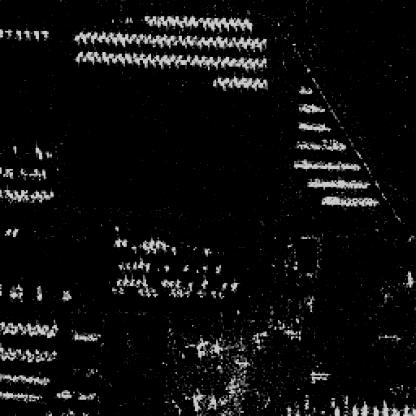airplane: (8, 289, 18, 299), (64, 289, 72, 301), (5, 27, 15, 36), (42, 150, 52, 158), (34, 291, 42, 301), (40, 27, 48, 36), (12, 228, 20, 237), (16, 28, 23, 38), (11, 143, 18, 153), (32, 30, 40, 38), (112, 239, 120, 247), (200, 278, 208, 286), (210, 288, 218, 296), (229, 280, 237, 288), (24, 27, 31, 36), (3, 228, 12, 235), (143, 260, 149, 270), (128, 276, 134, 286), (176, 288, 182, 298), (141, 57, 148, 65), (255, 60, 263, 67), (242, 81, 250, 88), (198, 34, 205, 42), (146, 18, 153, 26), (115, 262, 122, 270), (196, 289, 204, 296), (219, 280, 226, 288), (18, 288, 23, 299), (167, 280, 176, 286), (120, 237, 125, 247), (138, 50, 145, 57), (229, 55, 236, 62), (237, 55, 244, 62), (233, 60, 240, 67), (164, 37, 171, 44), (245, 37, 252, 44), (185, 281, 192, 288), (78, 49, 84, 57), (84, 49, 90, 57), (80, 34, 86, 42), (202, 38, 208, 46), (256, 40, 262, 48), (137, 260, 143, 268), (182, 264, 188, 272), (213, 265, 219, 273), (122, 276, 128, 284), (137, 288, 143, 296), (145, 288, 151, 296), (169, 288, 175, 296), (218, 290, 224, 298), (36, 150, 42, 158), (75, 56, 81, 63), (111, 55, 117, 62), (125, 57, 132, 63), (203, 58, 210, 64), (214, 56, 220, 63), (223, 55, 229, 62), (226, 60, 232, 67), (241, 60, 247, 67), (244, 55, 250, 62), (252, 55, 258, 62), (260, 56, 266, 63), (223, 76, 230, 82), (232, 76, 238, 83), (236, 81, 242, 88), (258, 81, 264, 88), (73, 33, 80, 39), (86, 36, 93, 42), (92, 29, 98, 36), (156, 37, 162, 44), (180, 37, 186, 44), (184, 34, 190, 41), (195, 37, 201, 44), (206, 34, 212, 41), (221, 34, 227, 41), (185, 20, 192, 26), (204, 16, 210, 23), (215, 21, 221, 28), (223, 21, 229, 28), (163, 263, 169, 270), (94, 54, 99, 62), (171, 54, 176, 62), (247, 76, 252, 84), (145, 31, 150, 39), (177, 32, 182, 40), (211, 38, 216, 46), (151, 14, 156, 22), (174, 14, 179, 22), (182, 13, 187, 21), (247, 21, 252, 29), (119, 286, 124, 294), (151, 288, 156, 296), (174, 278, 179, 286), (184, 288, 188, 298), (119, 57, 125, 63), (153, 54, 159, 60), (161, 54, 167, 60), (180, 57, 186, 63), (184, 54, 190, 60), (241, 76, 247, 82), (96, 36, 102, 42), (117, 36, 123, 42), (122, 33, 128, 39), (130, 32, 136, 38), (137, 31, 143, 37), (154, 32, 160, 38), (161, 33, 167, 39), (187, 39, 193, 45), (241, 41, 247, 47), (248, 41, 254, 47), (154, 20, 160, 26), (166, 15, 172, 21), (189, 15, 195, 21), (111, 288, 117, 294), (161, 280, 167, 286), (33, 145, 39, 151), (115, 52, 122, 57), (135, 56, 140, 63), (252, 81, 257, 88), (76, 29, 83, 34), (99, 29, 104, 36), (107, 29, 112, 36), (198, 16, 203, 23), (213, 16, 218, 23), (242, 18, 249, 23), (150, 57, 154, 65), (166, 58, 170, 66), (202, 20, 206, 28), (142, 278, 146, 286), (102, 54, 107, 60), (146, 52, 151, 58), (156, 59, 161, 65), (177, 54, 182, 60), (174, 59, 179, 65), (188, 57, 193, 63), (206, 55, 212, 60), (218, 60, 224, 65), (211, 80, 216, 86), (216, 76, 221, 82), (219, 80, 224, 86), (255, 76, 260, 82), (262, 78, 268, 83), (127, 36, 132, 42), (148, 38, 154, 43), (218, 39, 224, 44), (228, 39, 233, 45), (230, 35, 236, 40), (234, 40, 239, 46), (143, 14, 148, 20), (159, 15, 164, 21), (171, 20, 176, 26), (232, 21, 238, 26), (135, 278, 140, 284), (132, 50, 136, 57), (250, 62, 257, 66), (216, 34, 220, 41), (254, 37, 258, 44), (262, 37, 266, 44), (109, 52, 114, 57), (200, 55, 205, 60), (211, 60, 216, 65), (110, 35, 115, 40), (169, 34, 174, 39), (172, 39, 177, 44), (239, 35, 244, 40), (221, 16, 226, 21), (229, 16, 234, 21), (235, 18, 240, 23), (239, 21, 244, 26), (88, 54, 92, 60), (92, 49, 96, 55), (192, 54, 196, 60), (116, 31, 120, 37), (194, 20, 198, 26), (124, 262, 130, 266), (132, 260, 136, 266), (116, 278, 120, 284), (101, 50, 104, 57), (135, 37, 138, 44), (209, 21, 212, 28), (124, 52, 128, 57), (229, 80, 234, 84), (142, 38, 146, 43), (192, 34, 196, 39), (162, 20, 167, 24), (196, 59, 199, 65), (104, 36, 107, 42), (179, 20, 182, 26), (84, 31, 87, 36), (82, 54, 84, 60)
